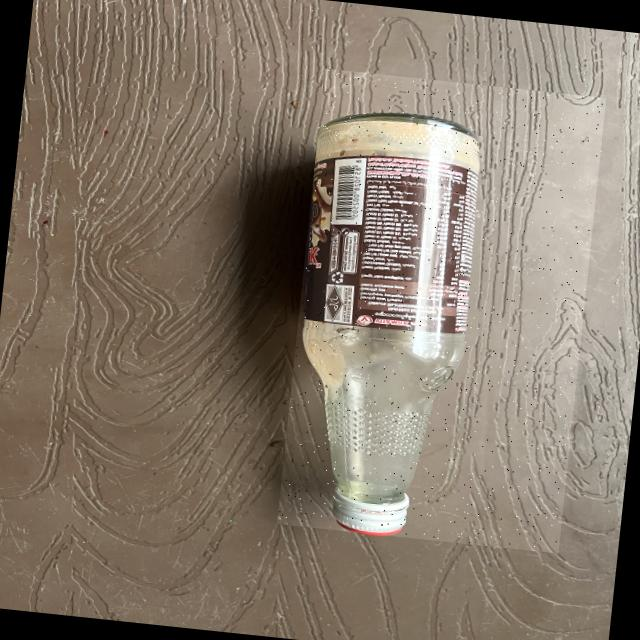REJECT: (276, 66, 606, 552)
